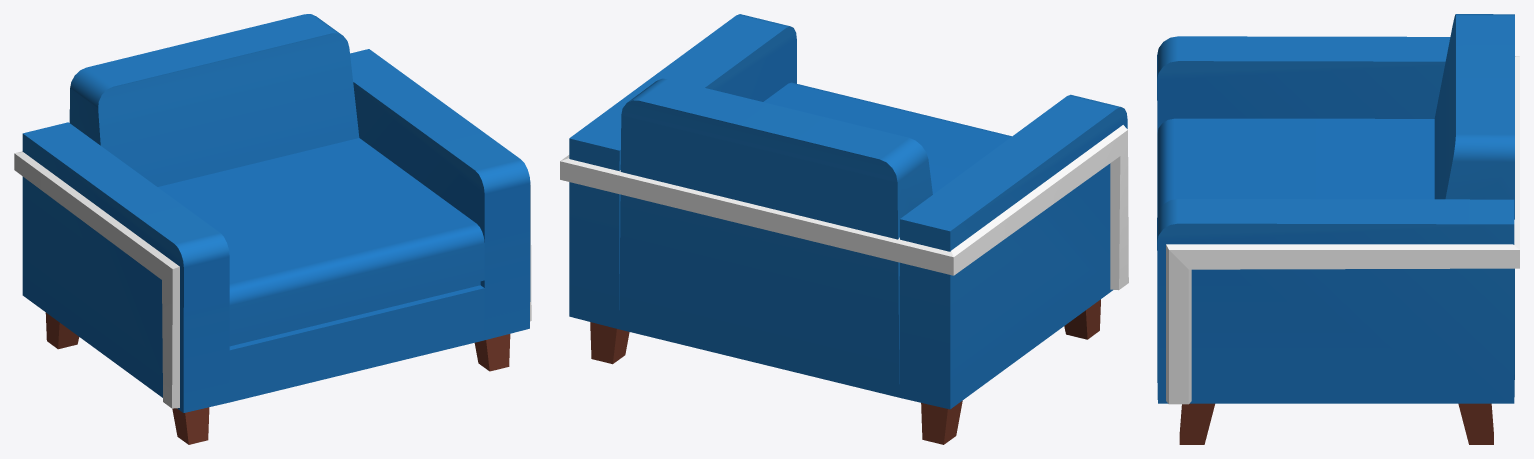
File: chair1.fbx
3 views of the same model, side by side, from view 1: azimuth 30°, elevation 25°; view 2: azimuth 150°, elevation 25°; view 3: azimuth 270°, elevation 25° (orthographic). The views are drawn at different scales.
Parts seen in each view (by area): view 1: chair1; view 2: chair1; view 3: chair1.
Part boxes in pixels (x1=…): chair1: x1=14, y1=14, x2=531, y2=444; chair1: x1=560, y1=14, x2=1128, y2=444; chair1: x1=1157, y1=14, x2=1519, y2=444.
Size of the model in its own units: 133 by 89.35 by 104.
Materials: 1 (1 with a texture image).
